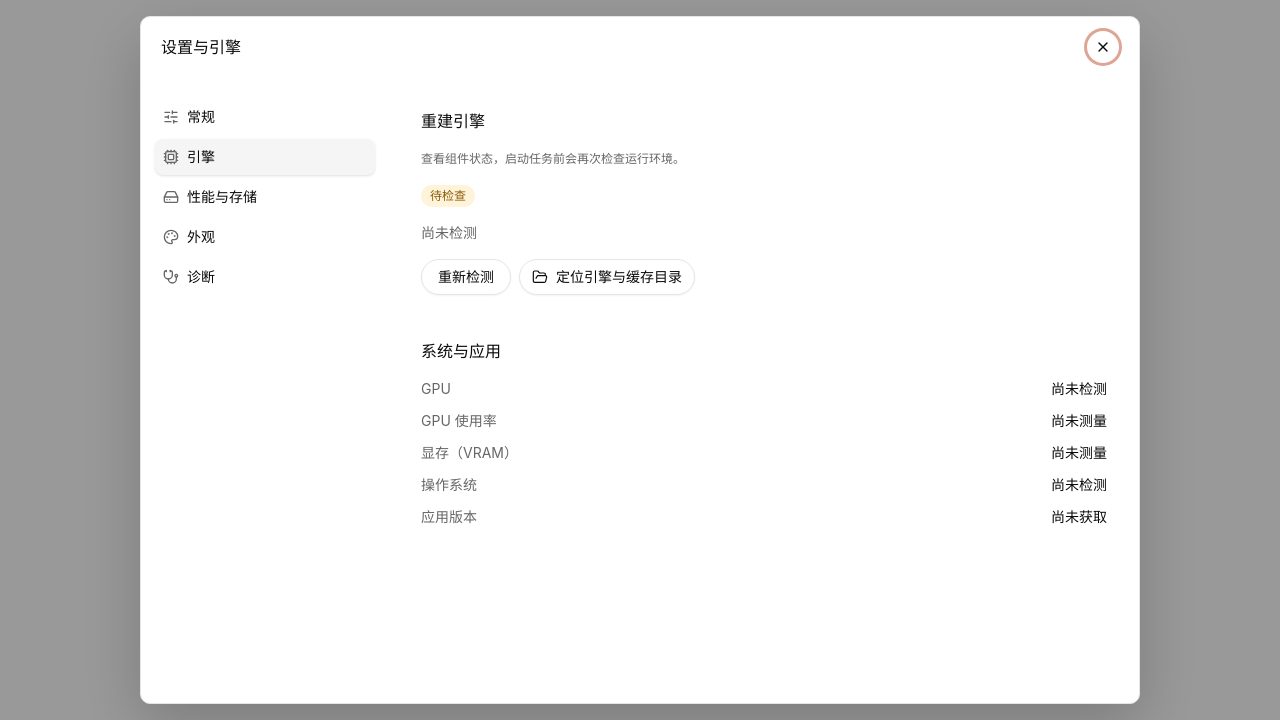
it: SettingsDrawer › preserves unsaved numeric drafts across tab changes and allows retry after a failed save
Click the tab "性能与存储".
click(265, 197)  # box [155,179,375,215]
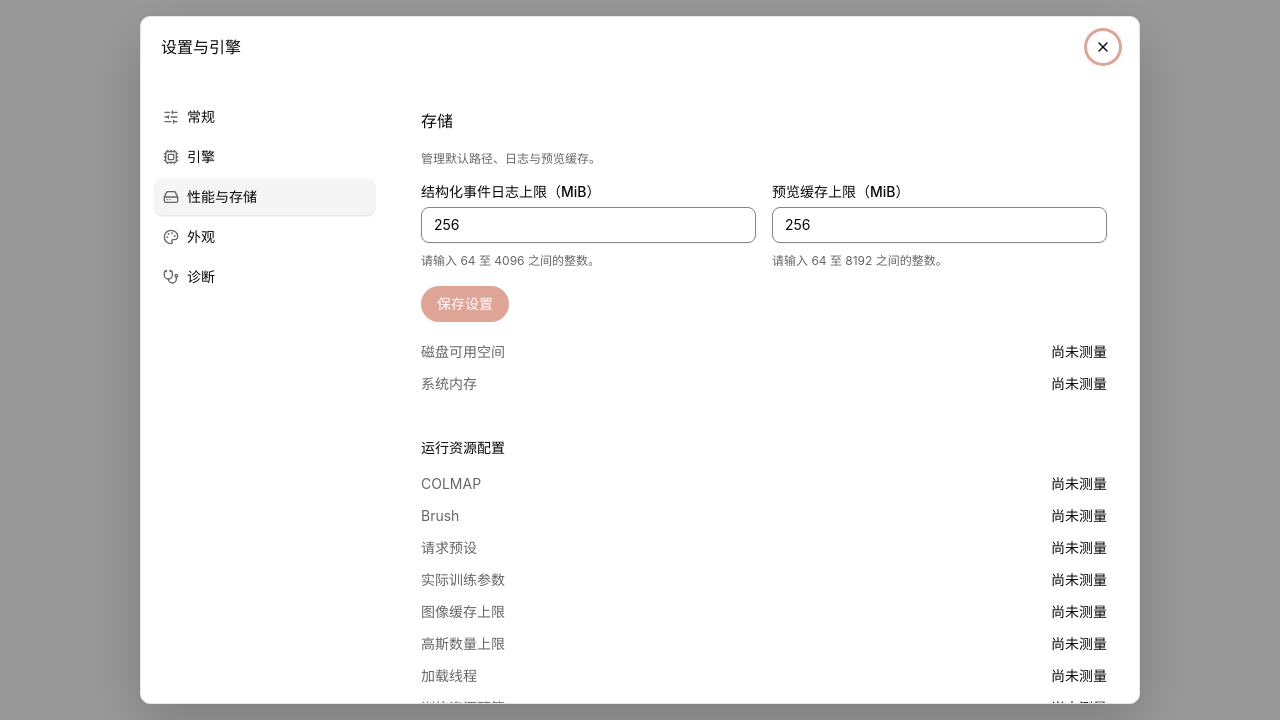
Replace the text in the number field labelled "预览缓存上限（MiB）" with "1024" at (940, 224), box [772,206,1107,242]
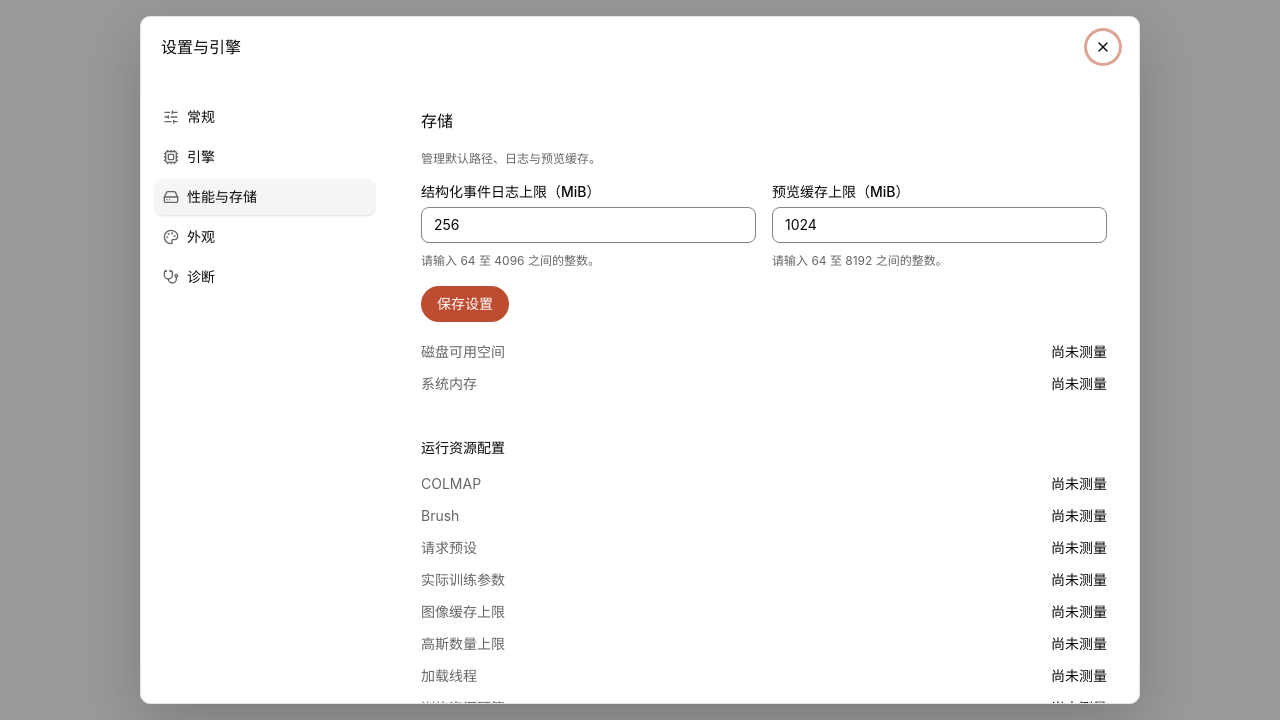
Click the tab "常规".
click(265, 117)  # box [155,99,375,135]
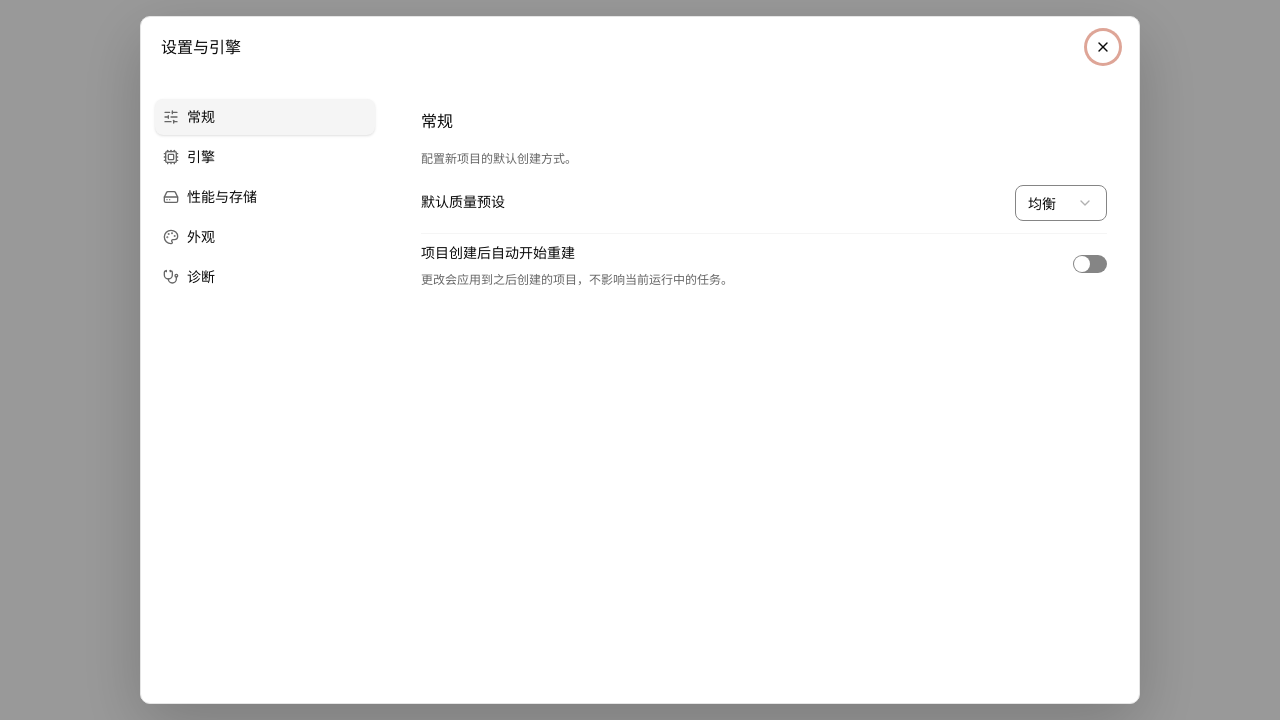
Click the tab "性能与存储".
click(265, 197)  # box [155,179,375,215]
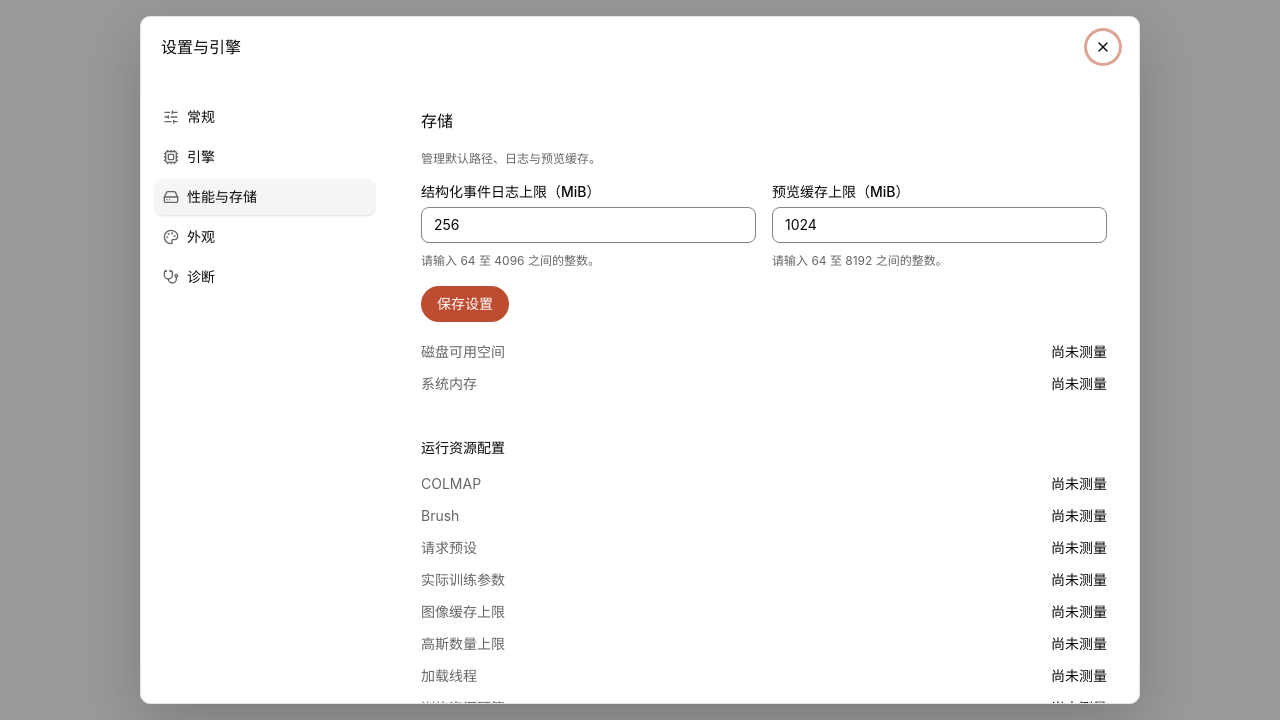
Now the number field labelled "预览缓存上限（MiB）" holds "1024", box [772,206,1107,242]
Click the button "保存设置".
click(465, 304)  # box [421,286,509,322]
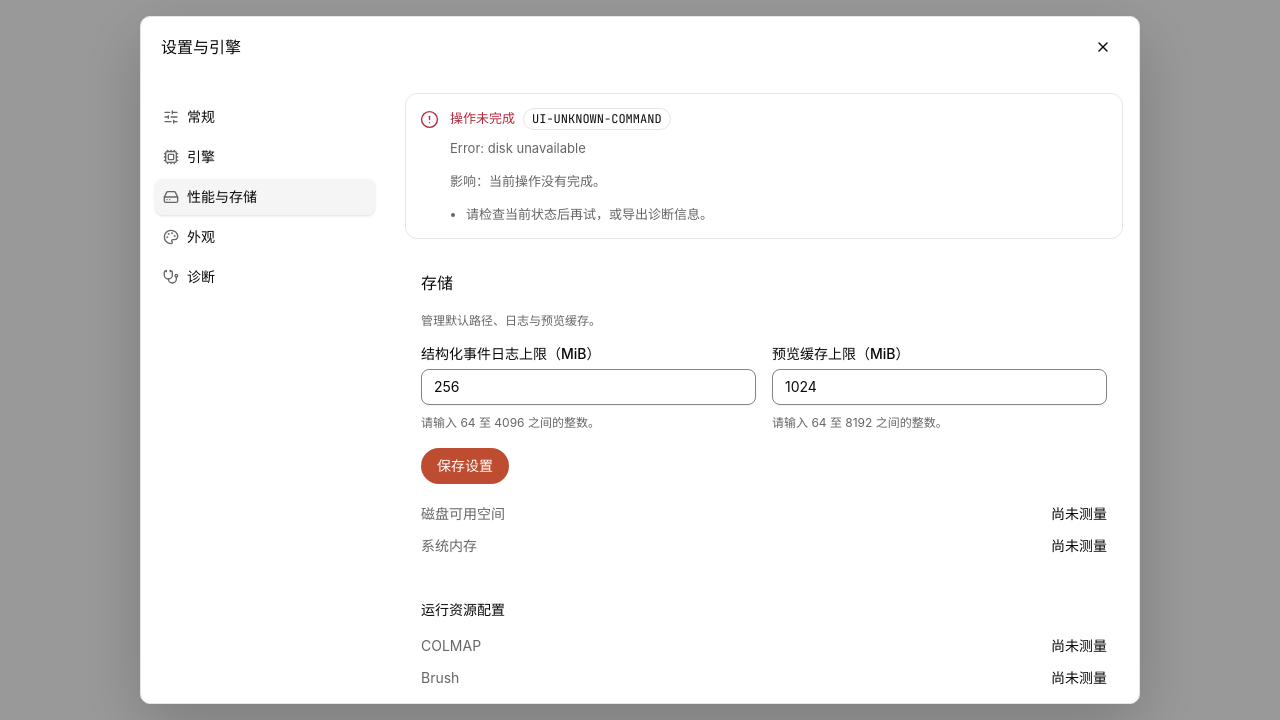
Now the message shows "disk unavailable", box [450,140,586,156]
Click the button "保存设置".
click(465, 466)  # box [421,448,509,484]
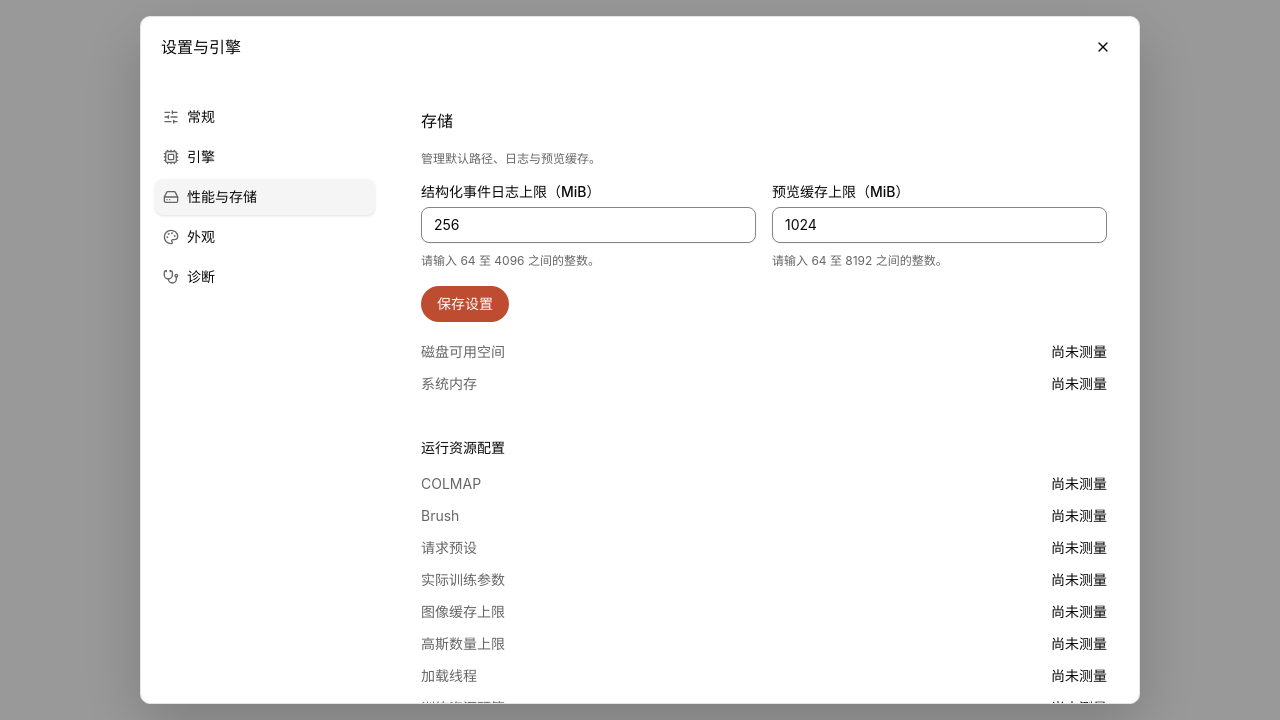
Now the message is gone
